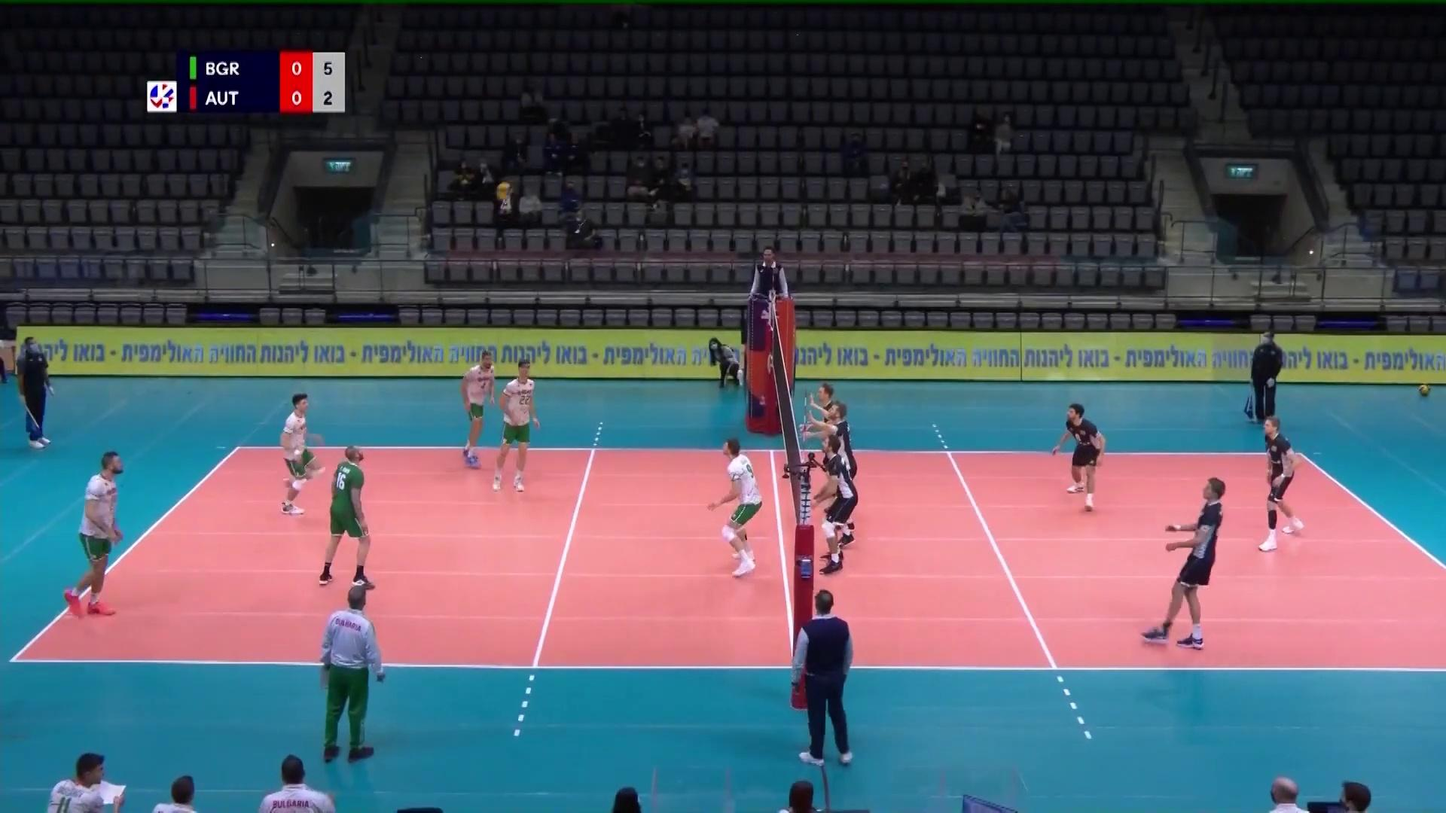ball: (497, 182, 512, 200)
